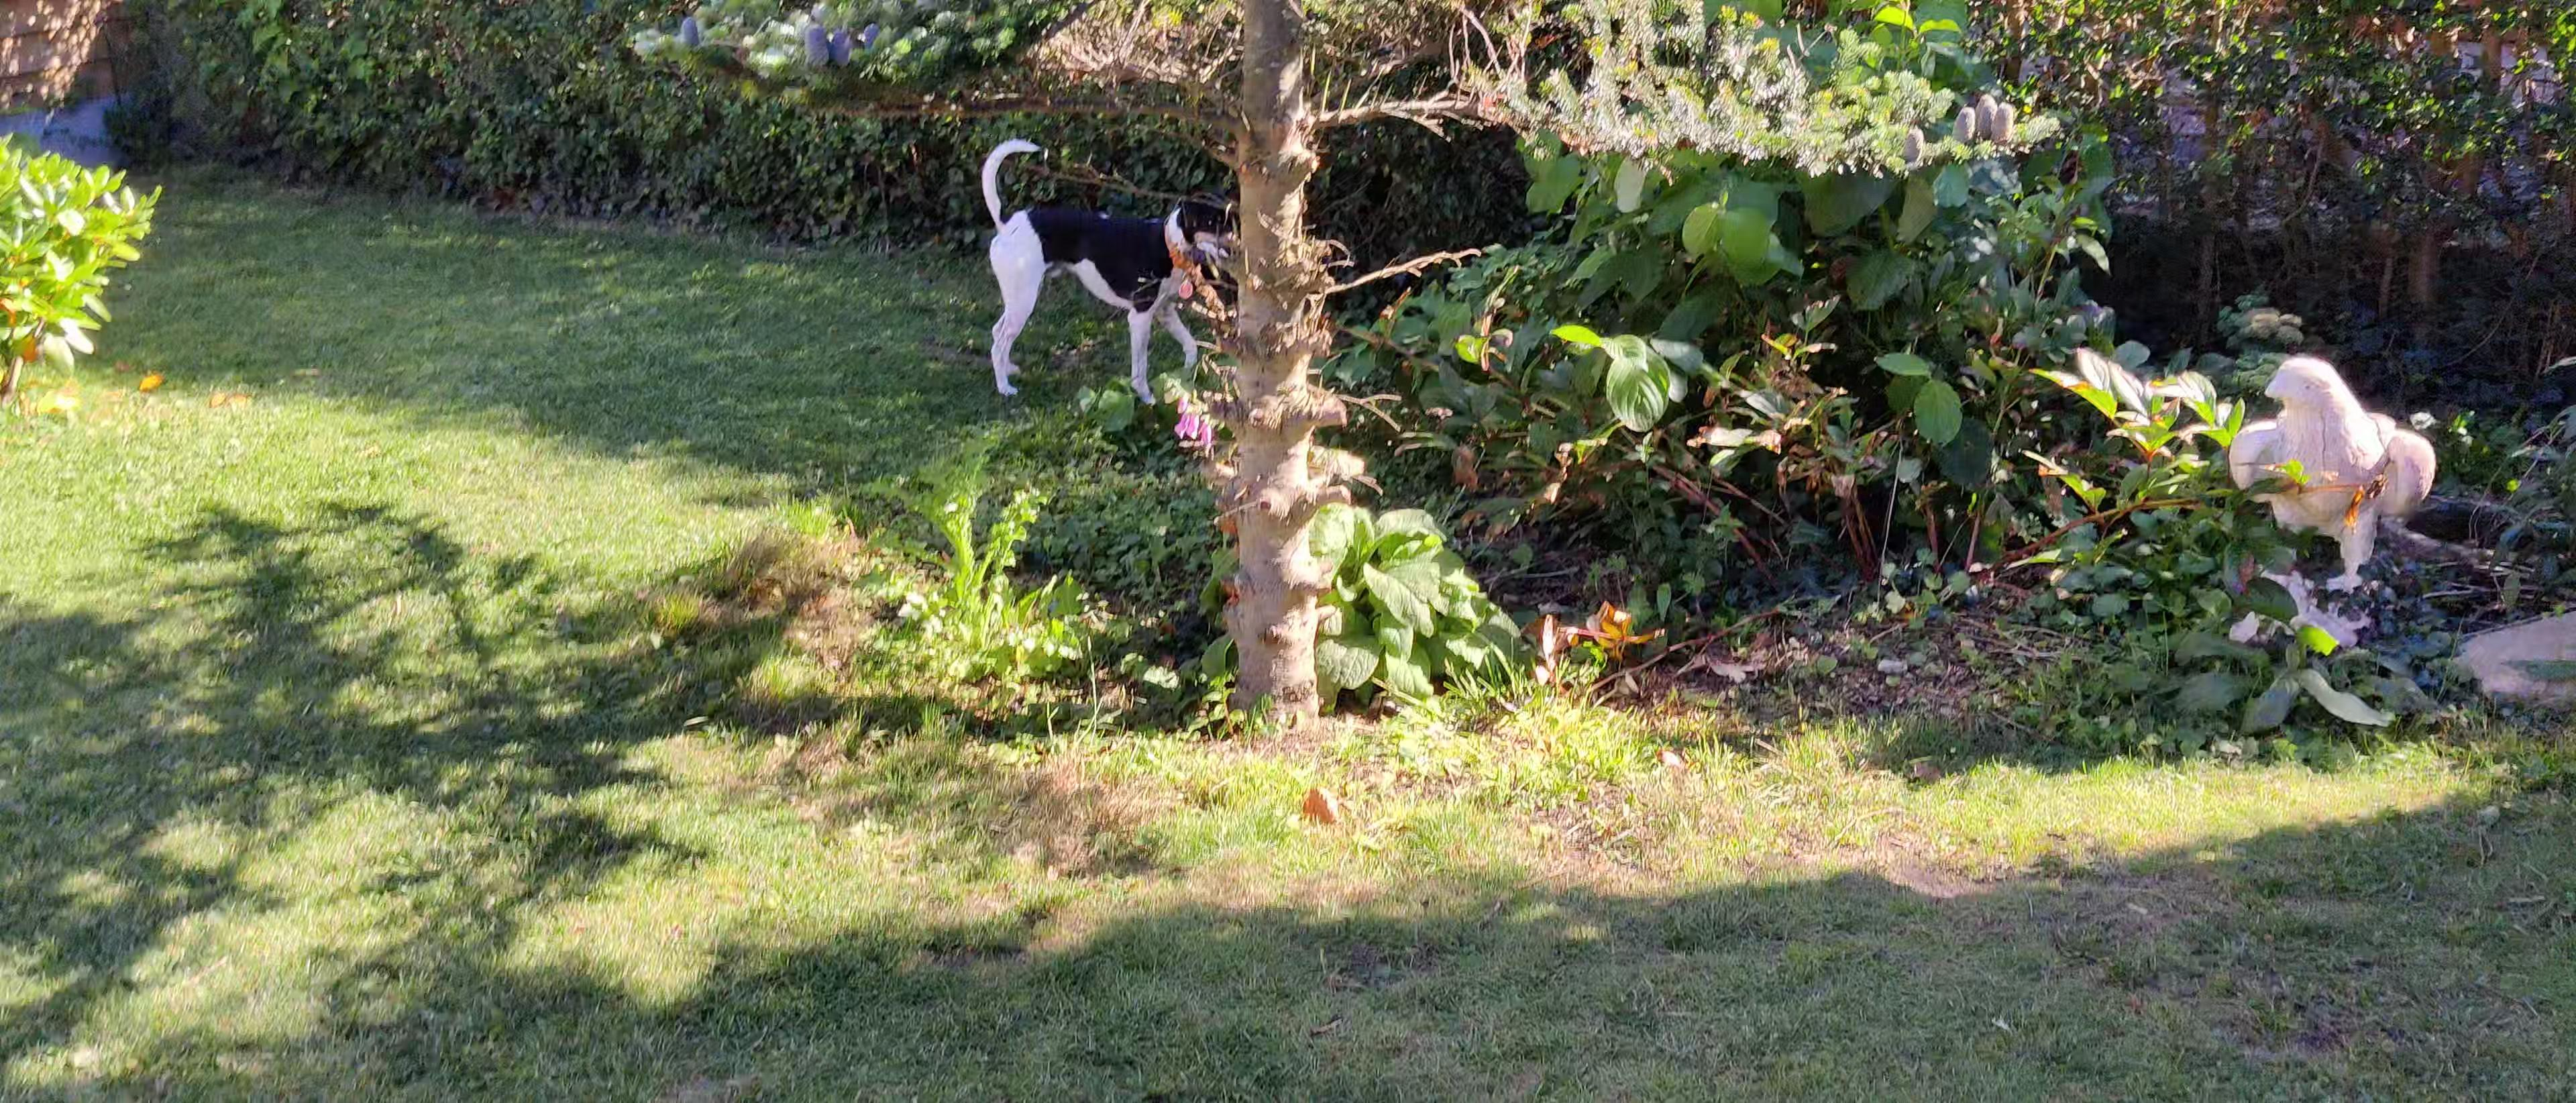Dog: (977, 140, 1239, 411)
